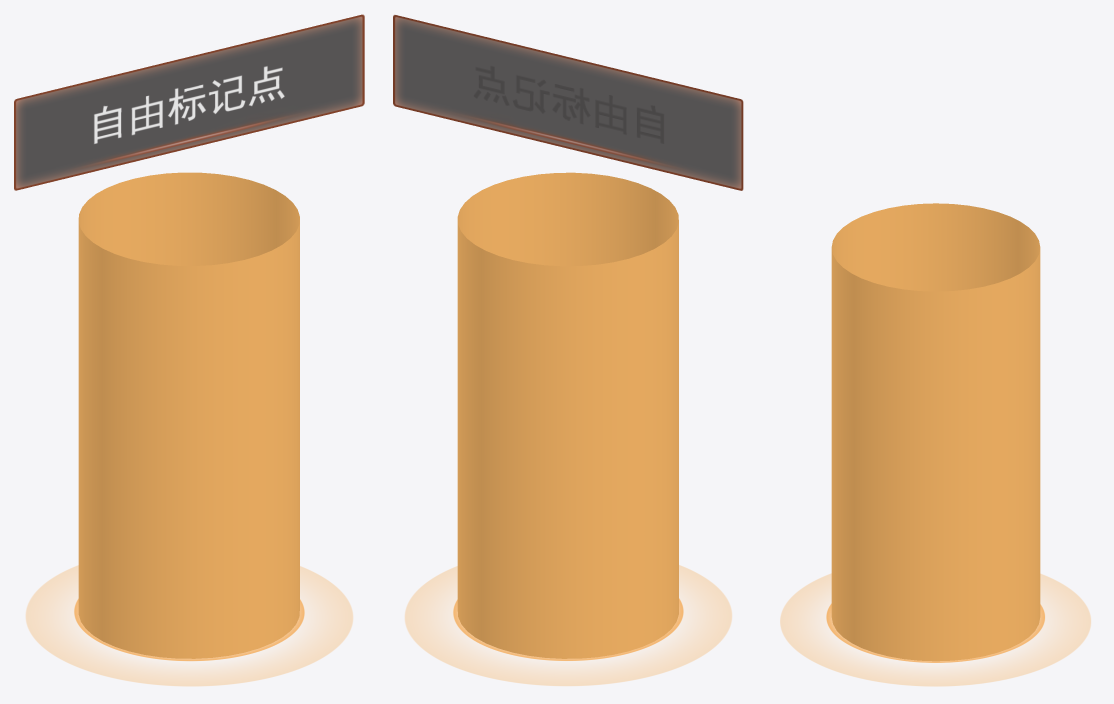
The model's file is SM_POI_Diamond_click.glb.
The picture shows the model from 3 angles, left to right: view 1: azimuth 30°, elevation 25°; view 2: azimuth 150°, elevation 25°; view 3: azimuth 270°, elevation 25°; orthographic projection. The views are drawn at different scales.
Visible parts, largest first — view 1: Poly_Lighting, Poly_UI_Box, Poly_Round_Wave, Poly_Text, Poly_Round_Center; view 2: Poly_Lighting, Poly_UI_Box, Poly_Round_Wave, Poly_Text, Poly_Round_Center; view 3: Poly_Lighting, Poly_Round_Wave, Poly_Round_Center.
Boxes of the visible parts, x1,y1,x2,y2 form: Poly_Lighting: (78,172,299,658); Poly_UI_Box: (14,14,364,190); Poly_Round_Wave: (26,565,352,686); Poly_Text: (94,66,284,143); Poly_Round_Center: (74,598,304,661); Poly_Lighting: (457,172,678,658); Poly_UI_Box: (393,15,743,190); Poly_Round_Wave: (405,565,731,685); Poly_Text: (474,66,663,143); Poly_Round_Center: (453,598,683,660); Poly_Lighting: (831,203,1040,661); Poly_Round_Wave: (780,574,1090,686); Poly_Round_Center: (826,603,1044,662).
Bounding box in the file's own units: 1.6 × 2.44 × 1.38.
Materials: 7 (6 with a texture image).
